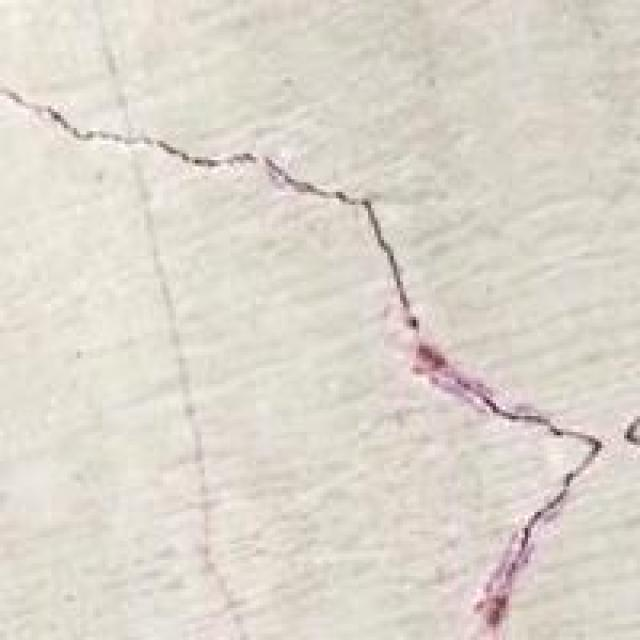crack: (0, 56, 590, 640)
